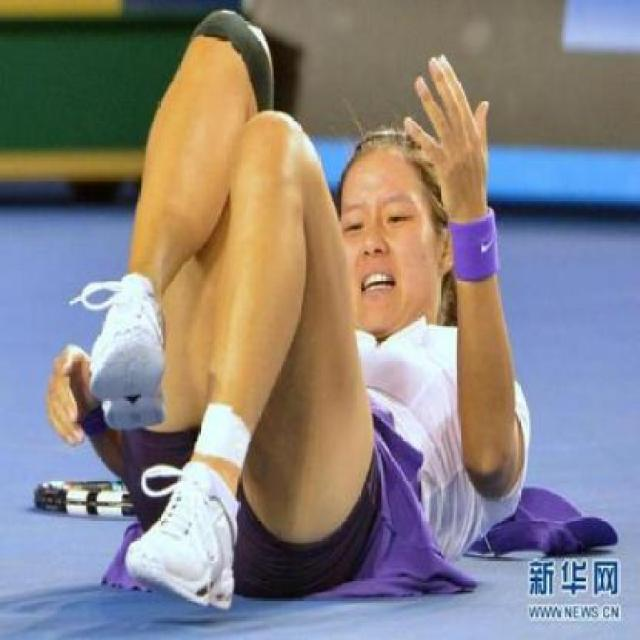fall: (34, 1, 603, 636)
